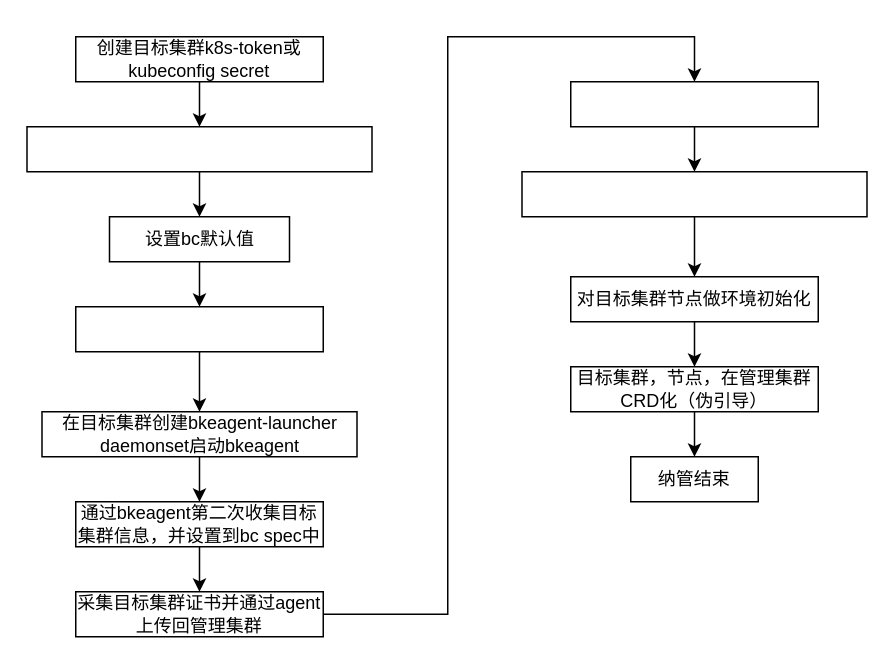
Image size: 893x663. Some labels were removed from this diagram. Each missing label, with the centre of its shape:
以bke证书的格式重新分发证书到所有节点（适配后续升级扩缩容操作）: (x=693, y=193)
创建bc并设置注解 bke.bocloud.com/cluster-from：”bocloud“: (x=199, y=148)
备份目标集群关键文件或目录: (x=693, y=103)
通过k8s-api第一次收集目标集群信息，并设置到bc spec中: (x=198, y=328)
